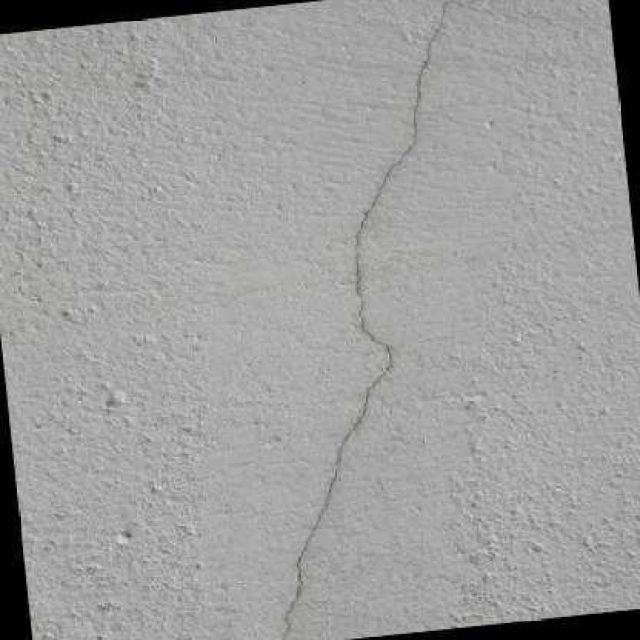D00: (275, 0, 474, 640)
